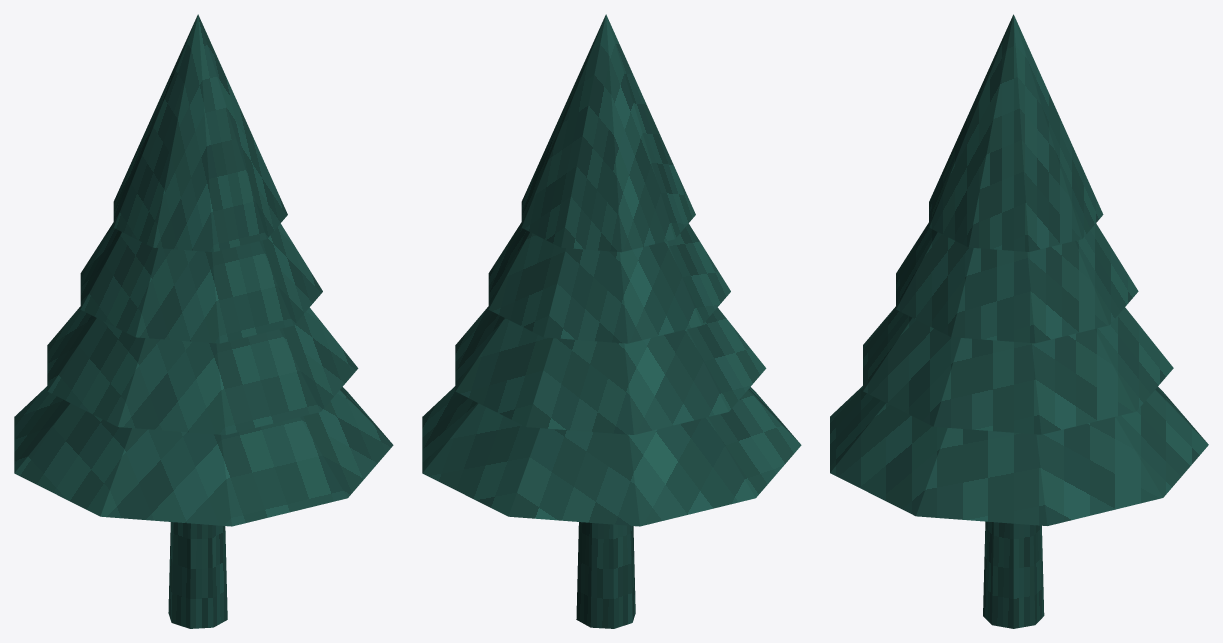
File: pine_00.glb
The picture shows the model from 3 angles, left to right: view 1: azimuth 30°, elevation 25°; view 2: azimuth 150°, elevation 25°; view 3: azimuth 270°, elevation 25°; orthographic projection.
Visible parts, largest first — view 1: Needles, Needles.001, Needles.003, Needles.002, Trunk; view 2: Needles, Needles.001, Needles.003, Needles.002, Trunk; view 3: Needles, Needles.001, Needles.003, Needles.002, Trunk.
Part boxes in pixels (<box>): Needles: <box>14,386,393,526</box>; Needles.001: <box>47,306,358,434</box>; Needles.003: <box>113,14,287,252</box>; Needles.002: <box>80,222,322,343</box>; Trunk: <box>168,522,227,628</box>; Needles: <box>422,386,801,526</box>; Needles.001: <box>455,306,766,434</box>; Needles.003: <box>521,14,695,252</box>; Needles.002: <box>488,222,730,343</box>; Trunk: <box>576,522,635,628</box>; Needles: <box>830,386,1208,525</box>; Needles.001: <box>863,306,1173,434</box>; Needles.003: <box>929,14,1103,251</box>; Needles.002: <box>896,222,1138,343</box>; Trunk: <box>983,521,1044,628</box>.
Size of the model in its own units: 2.51 by 4.33 by 2.47.
1 material, 1 textured.
